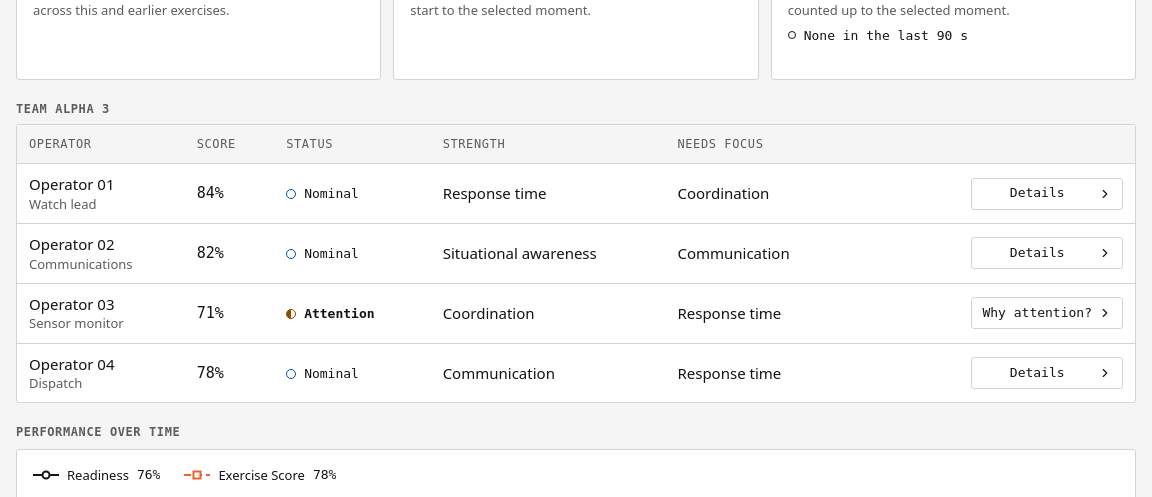
Test case: operator panel › shows each cause with its explanation, the human response, and the score change in words
(page scrolled)
Click the button named "Why attention? Operator 03" at [1047, 313], box [971,297,1123,329]
(page scrolled)
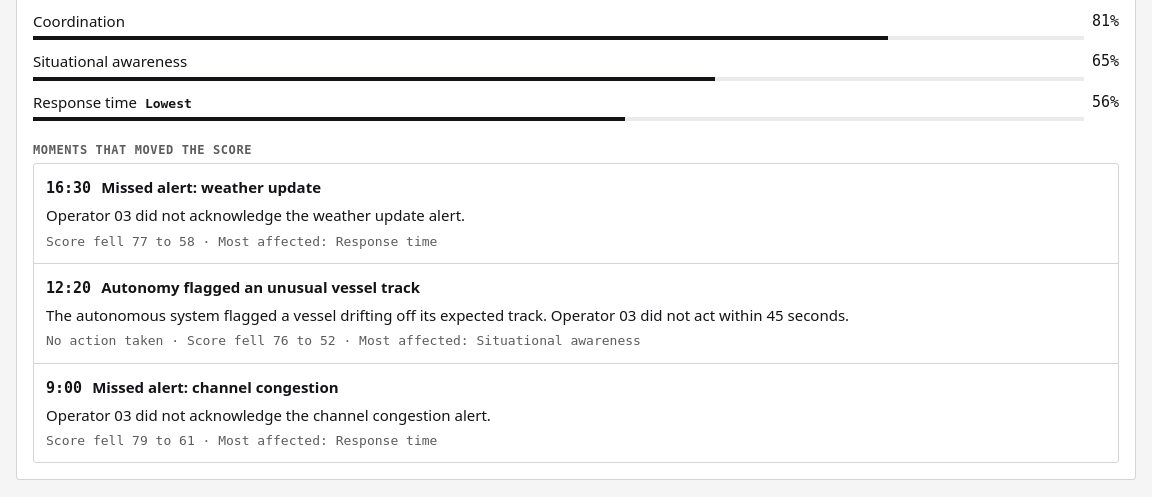
Result: the list item that starts with "Missed alert: weather update" is shown at [46,176,321,200]
Result: the list item that starts with "Autonomy flagged an unusual vessel track" is shown at [46,276,420,300]
Result: the list item that starts with "Autonomy flagged an unusual vessel track" shows "did not act within 45 seconds" at [46,305,849,325]
